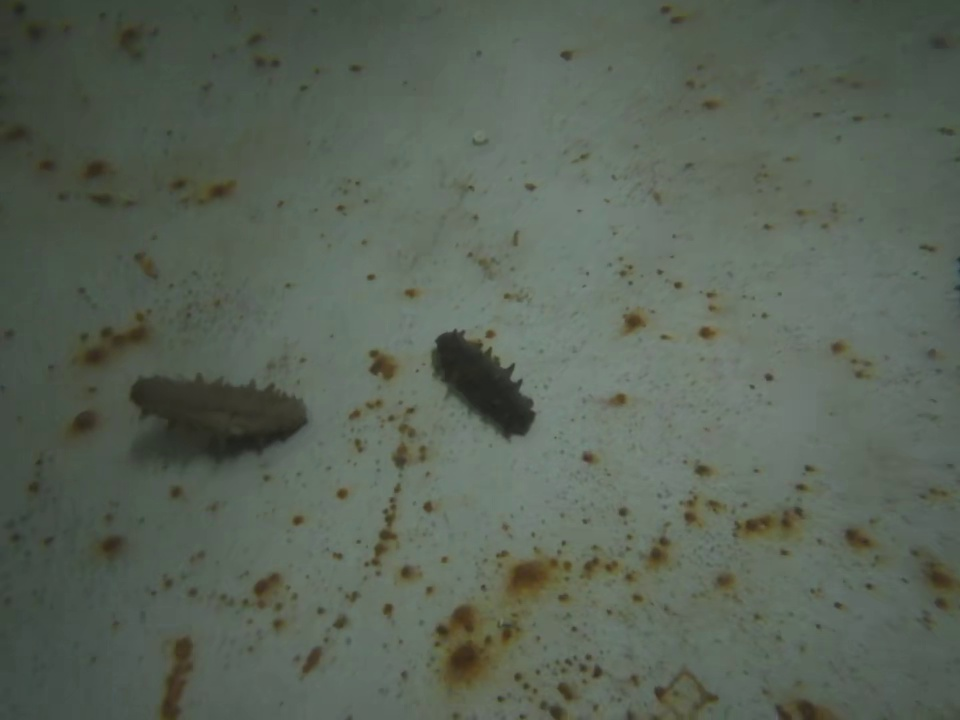seacucumber: (128, 371, 312, 445), (433, 327, 538, 436)
